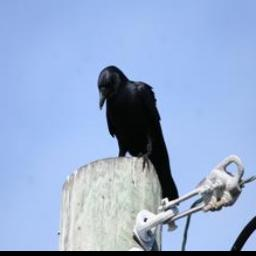Crow: (96, 64, 179, 207)
